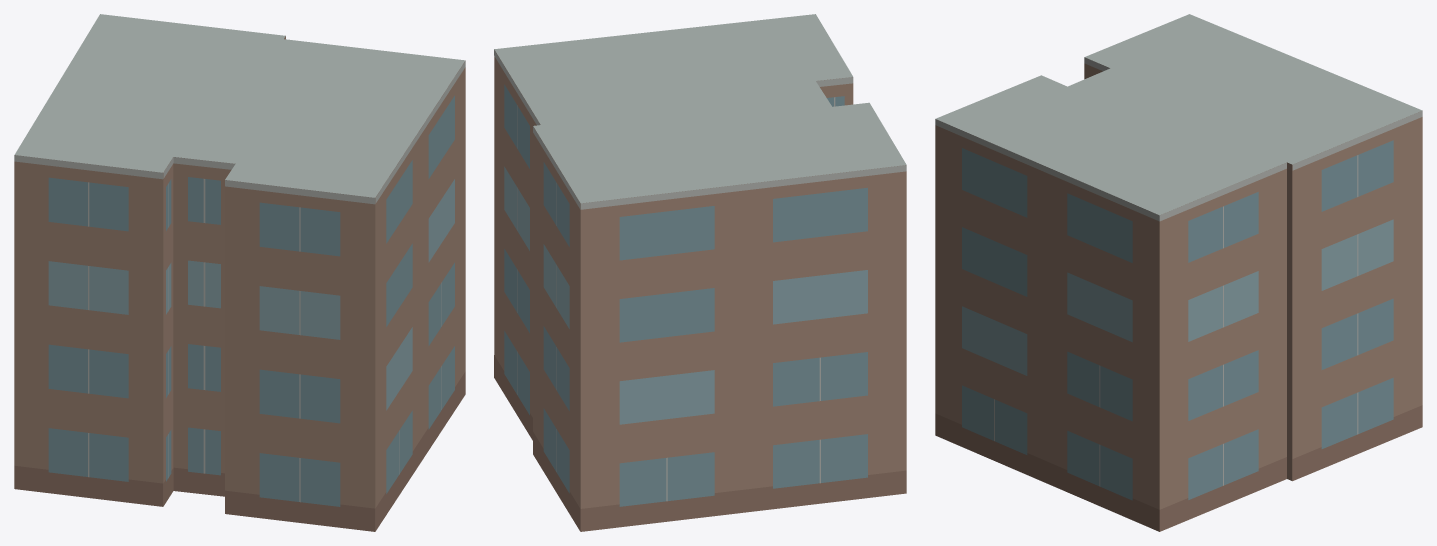
File: survey-upis-32983094.glb
The picture shows the model from 3 angles, left to right: view 1: azimuth 30°, elevation 25°; view 2: azimuth 150°, elevation 25°; view 3: azimuth 270°, elevation 25°; orthographic projection. The views are drawn at different scales.
Parts seen in each view (by area): view 1: survey-upis-32983094.tmp; view 2: survey-upis-32983094.tmp; view 3: survey-upis-32983094.tmp.
Boxes of the visible parts, x1,y1,x2,y2 form: survey-upis-32983094.tmp: (14, 14, 465, 531); survey-upis-32983094.tmp: (494, 14, 906, 531); survey-upis-32983094.tmp: (935, 14, 1422, 531).
Size of the model in its own units: 17.06 by 12.5 by 17.45.
